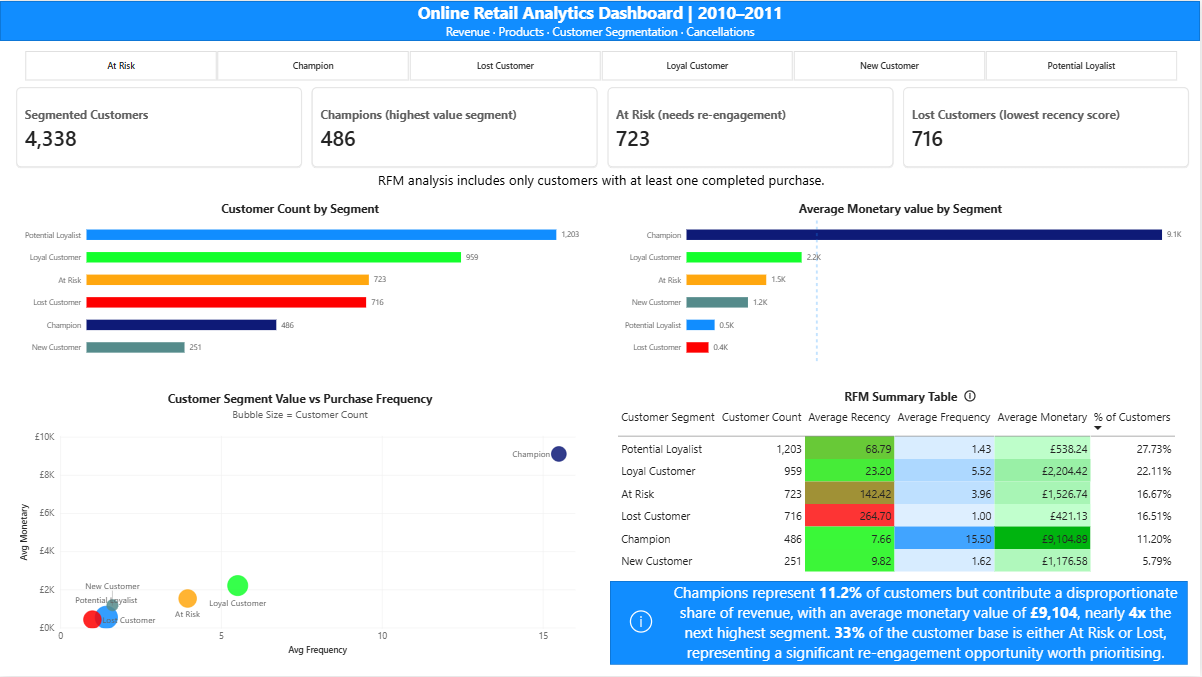

The page's visual inventory and layout, read from the dashboard file:
{"tool":"powerbi","page":{"name":"Customer Segmentation (RFM)","canvas":[1920,1080],"ordinal":2},"visuals":[{"type":"shape","box":[0,0,1920,64],"z":0},{"type":"shape","box":[21.7,70.6,1880.2,65.2],"z":0,"group":"g2"},{"type":"shape","box":[976.5,928.1,924.2,133.9],"z":0,"group":"g1"},{"type":"slicer","fields":{"Values":["RFM_Results.CustomerSegment"]},"box":[19.9,77.8,1882,50.7],"z":1000,"group":"g2"},{"type":"cardVisual","fields":{"Data":["RFM_Results.Customer Count","_Measures.(RFM) Champions Count","_Measures.(RFM) At Risk Count","_Measures.(RFM) Lost Customers Count"]},"box":[23.5,135.8,1880.2,132.2],"z":1000},{"type":"textbox","box":[1068.8,928,835.2,131],"z":1000,"group":"g1"},{"type":"clusteredBarChart","title":"Customer Count by Segment","fields":{"Category":["RFM_Results.CustomerSegment"],"Y":["_Measures.(RFM) Customer Count"]},"box":[16,304,928,288],"z":2000},{"type":"actionButton","box":[976,959.4,99.6,65.8],"z":2000,"group":"g1"},{"type":"clusteredBarChart","title":"Average Monetary value by Segment","fields":{"Category":["RFM_Results.CustomerSegment"],"Y":["Avg(RFM_Results.Monetary)"]},"box":[976,304,928,288],"z":3000},{"type":"tableEx","title":"RFM Summary Table","fields":{"Values":["RFM_Results.CustomerSegment","_Measures.(RFM) Customer Count","_Measures.Avg Recency","_Measures.Avg Frequency","_Measures.Avg Monetary","_Measures.(RFM) % of Customers"]},"box":[976,608,928,320],"z":4000},{"type":"scatterChart","title":"Customer Segment Value vs Purchase Frequency","fields":{"Category":["RFM_Results.CustomerSegment"],"Size":["_Measures.(RFM) Customer Count"],"X":["_Measures.Avg Frequency"],"Y":["_Measures.Avg Monetary"]},"box":[16,608,928,454],"z":5000},{"type":"group","id":"g1","title":"Insight Box","box":[976,928,928,134],"z":6000},{"type":"group","id":"g2","title":"Slicer Bar","box":[19.9,70.6,1882,65.2],"z":7000},{"type":"textbox","box":[59.8,0,1800.5,63.4],"z":8000},{"type":"textbox","box":[22,268,1880,38],"z":9000},{"type":"actionButton","box":[1520,608,64,48],"z":10000}]}

Visuals, with their boxes in screenshot pixels (x1, y1, x2, y2), scaled from the page's 1920x1080 canvas onto the 1202x677 screenshot:
shape: 0/0/1201/40
shape: 14/44/1191/85
shape: 611/582/1190/666
slicer - RFM_Results.CustomerSegment: 12/49/1191/81
cardVisual - RFM_Results.Customer Count x _Measures.(RFM) Champions Count: 15/85/1192/168
textbox: 669/582/1192/664
"Customer Count by Segment" clusteredBarChart: 10/191/591/371
actionButton: 611/601/673/643
"Average Monetary value by Segment" clusteredBarChart: 611/191/1192/371
"RFM Summary Table" tableEx: 611/381/1192/582
"Customer Segment Value vs Purchase Frequency" scatterChart: 10/381/591/666
"Insight Box" group: 611/582/1192/666
"Slicer Bar" group: 12/44/1191/85
textbox: 37/0/1165/40
textbox: 14/168/1191/192
actionButton: 952/381/992/411
